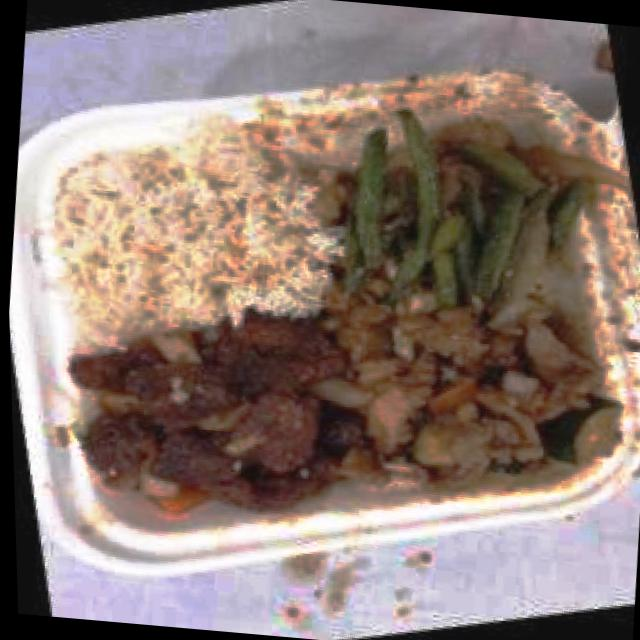Beijing Beef: (69, 294, 338, 520)
Kung Pao Chicken: (329, 314, 605, 504)
String Bean Chicken Breast: (332, 104, 618, 330)
rice: (62, 139, 330, 306)
